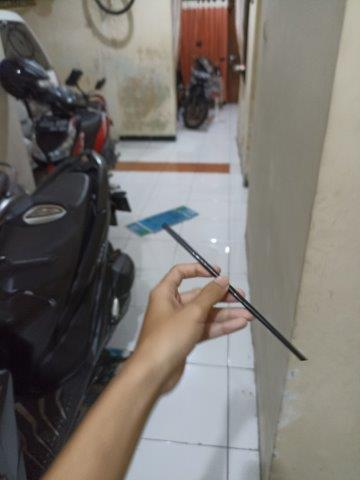sedotan: (163, 224, 306, 359)
